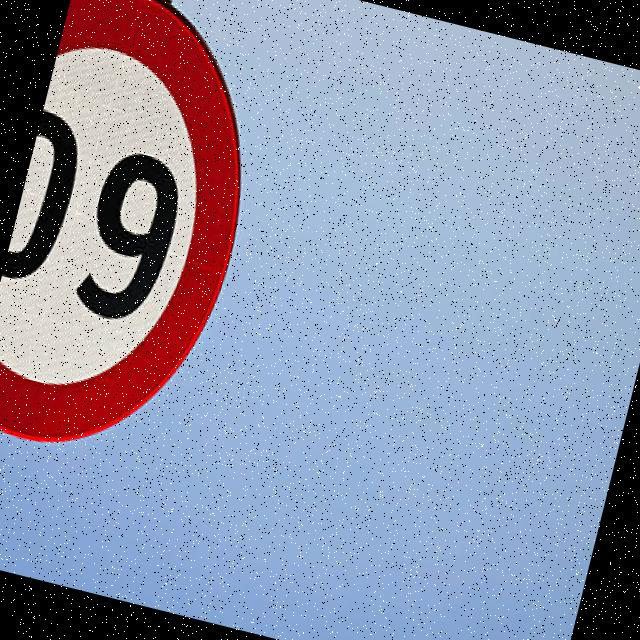speed_limit_60: (0, 0, 289, 486)
